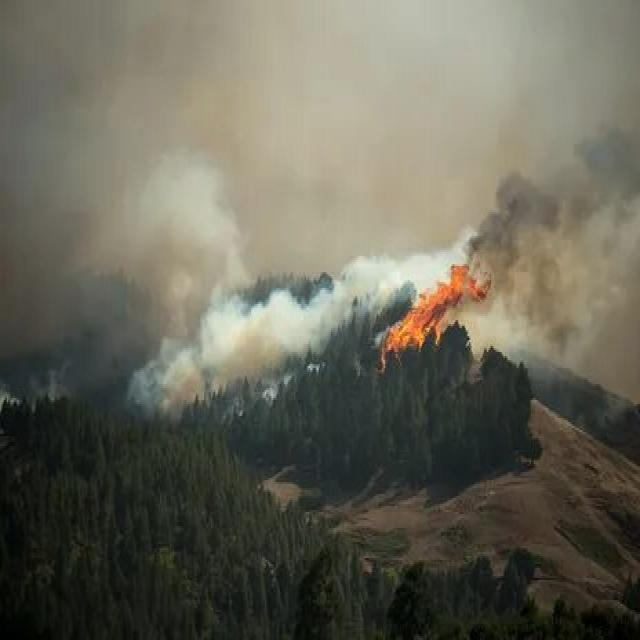Fire: (364, 240, 491, 392)
Smoke: (0, 0, 341, 378)
